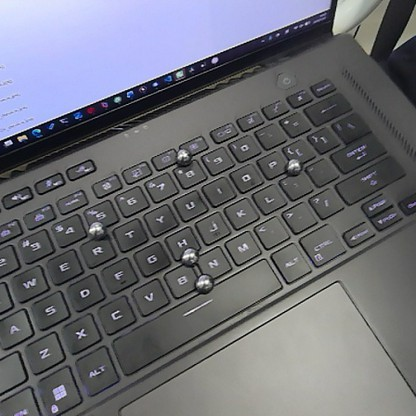ironball: (170, 145, 195, 167), (192, 274, 216, 295), (280, 157, 303, 178), (86, 219, 108, 240), (178, 247, 199, 268)
